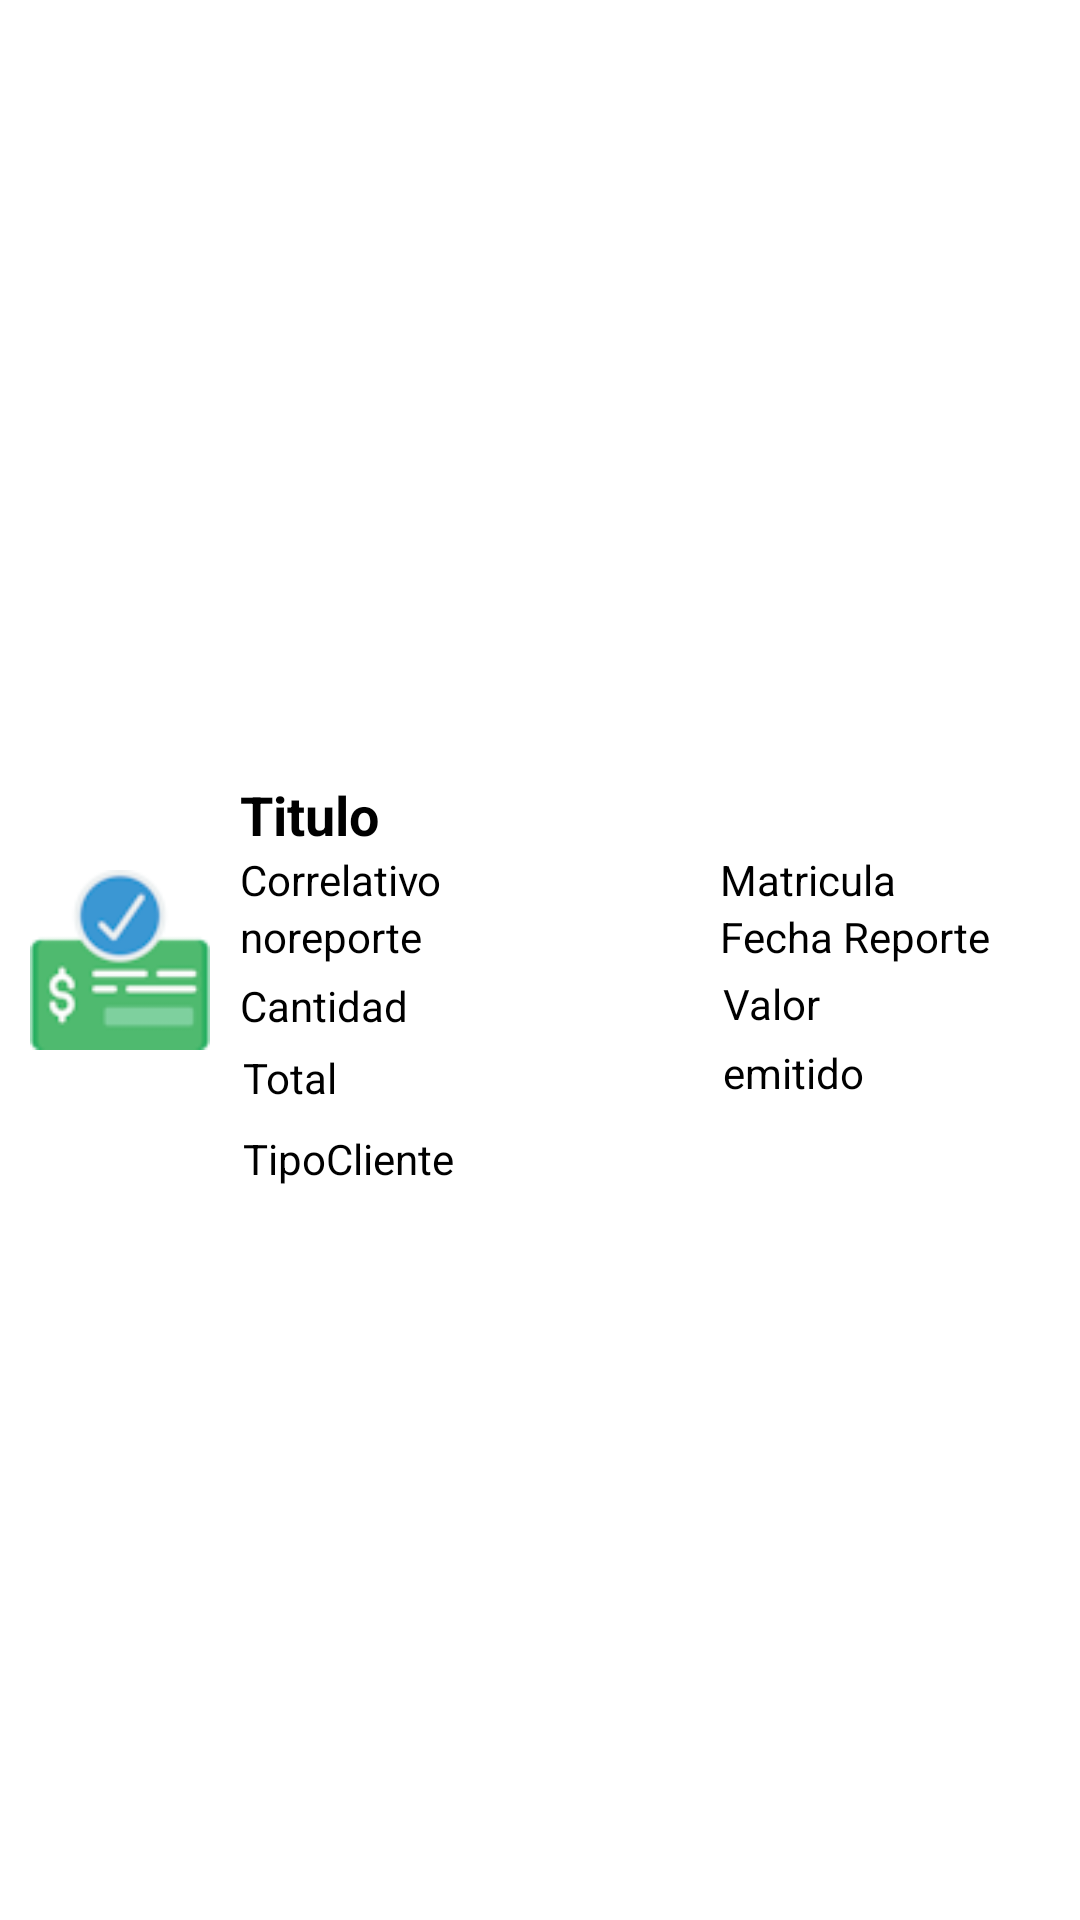

Named icons in this screenshot (1080*1920) and their bounding boxes, box=[x1, y1, x2, y2]:
vale: box=[30, 874, 210, 1050]
